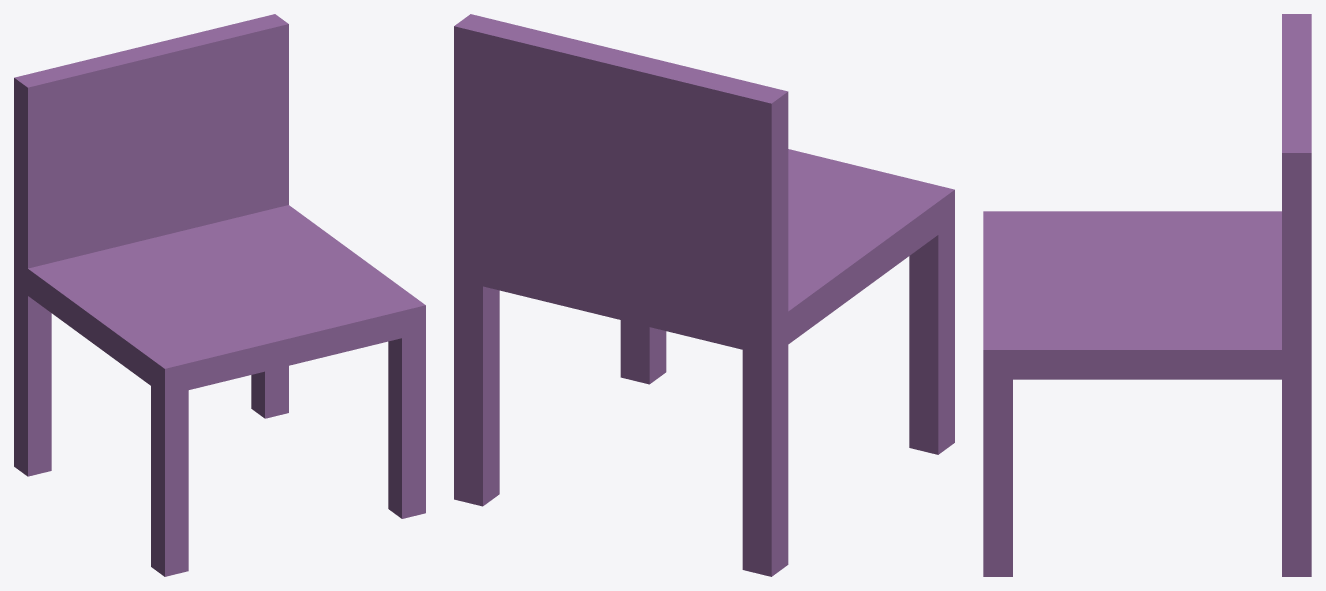
File: chair1.gltf
The picture shows the model from 3 angles, left to right: view 1: azimuth 30°, elevation 25°; view 2: azimuth 150°, elevation 25°; view 3: azimuth 270°, elevation 25°; orthographic projection. The views are drawn at different scales.
Parts seen in each view (by area): view 1: Mesh_Mesh_head_geo.001_lambert2SG.002; view 2: Mesh_Mesh_head_geo.001_lambert2SG.002; view 3: Mesh_Mesh_head_geo.001_lambert2SG.002.
Part boxes in pixels (x1,y1,x2,y2): Mesh_Mesh_head_geo.001_lambert2SG.002: (14,14,425,576); Mesh_Mesh_head_geo.001_lambert2SG.002: (454,14,954,576); Mesh_Mesh_head_geo.001_lambert2SG.002: (983,14,1311,576).
Bounding box in the file's own units: 33 × 47 × 33.
